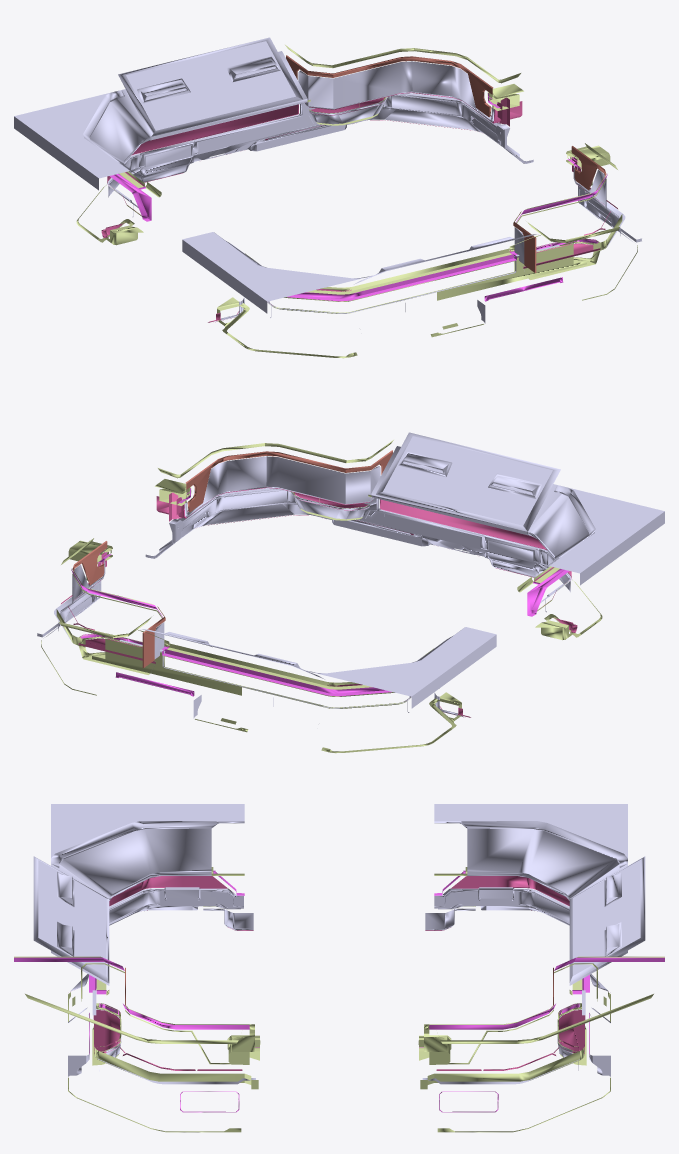
The model's file is commons_facade_main.glb.
The picture shows the model from 3 angles, top to bottom: view 1: azimuth 30°, elevation 25°; view 2: azimuth 150°, elevation 25°; view 3: azimuth 270°, elevation 25°; orthographic projection. The views are drawn at different scales.
Size of the model in its own units: 46.69 by 9.66 by 53.17.
